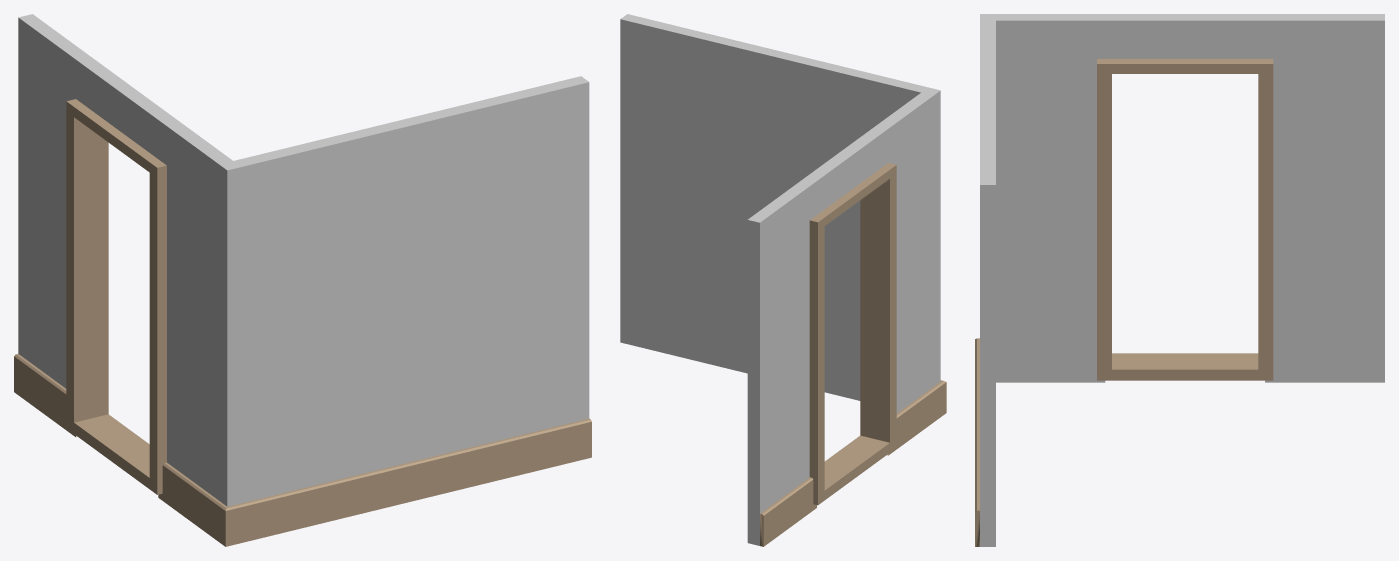
File: House_Wall_Door2.fbx
The picture shows the model from 3 angles, left to right: view 1: azimuth 30°, elevation 25°; view 2: azimuth 150°, elevation 25°; view 3: azimuth 270°, elevation 25°; orthographic projection. The views are drawn at different scales.
Visible parts, largest first — view 1: House_Wall_Full__16_; view 2: House_Wall_Full__16_; view 3: House_Wall_Full__16_.
Part boxes in pixels (left/top/right/bottom): House_Wall_Full__16_: left=14, top=14, right=591, bottom=546; House_Wall_Full__16_: left=620, top=14, right=946, bottom=546; House_Wall_Full__16_: left=975, top=14, right=1384, bottom=546.
Size of the model in its own units: 260 by 250 by 257.
